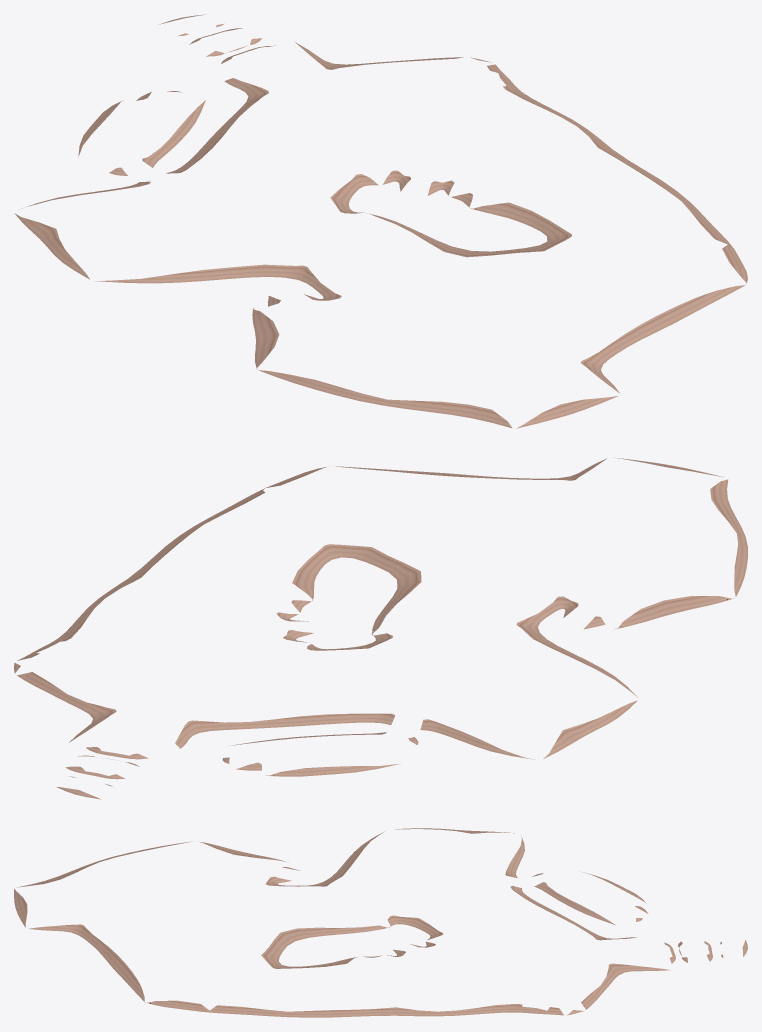
File: sand.glb
3 views of the same model, one above another, from view 1: azimuth 30°, elevation 25°; view 2: azimuth 150°, elevation 25°; view 3: azimuth 270°, elevation 25° (orthographic). The views are drawn at different scales.
Visible parts, largest first — view 1: Sand; view 2: Sand; view 3: Sand.
Part boxes in pixels (x1,y1,x2,y2): Sand: [14, 14, 747, 428]; Sand: [14, 457, 747, 799]; Sand: [14, 828, 747, 1017].
Bounding box in the file's own units: 22.28 × 0.2063 × 36.48.
1 material, 1 textured.
